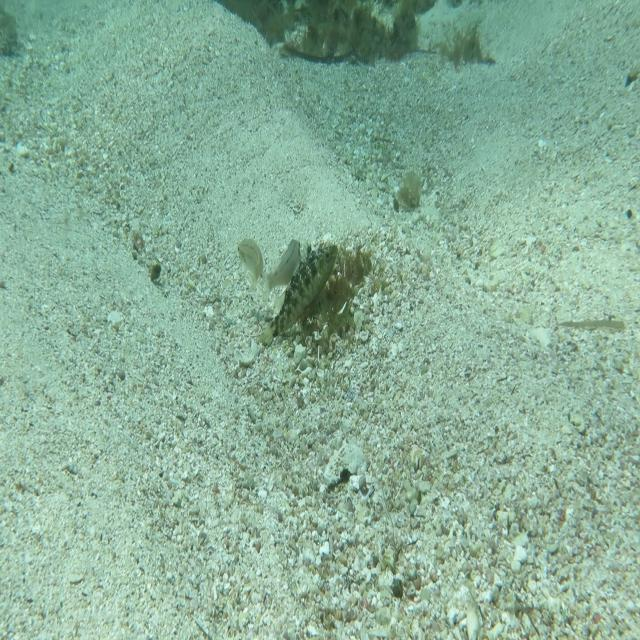ROLL: (255, 234, 341, 350)
female: (254, 237, 304, 298)
nest: (277, 246, 374, 366)
other_fish: (229, 234, 268, 299)
